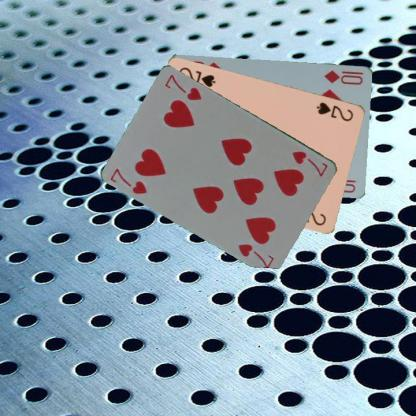10d: (322, 67, 364, 86)
2s: (314, 99, 355, 122)
7h: (108, 165, 149, 196), (289, 148, 330, 178)
